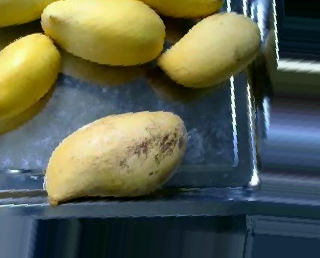Mango: (44, 102, 190, 206), (37, 0, 165, 67), (156, 12, 262, 87), (0, 32, 59, 119)
